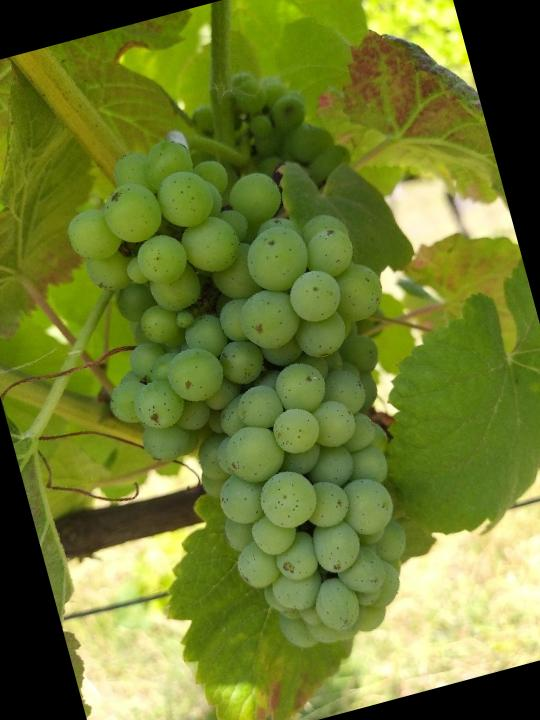grape: (46, 86, 473, 686)
